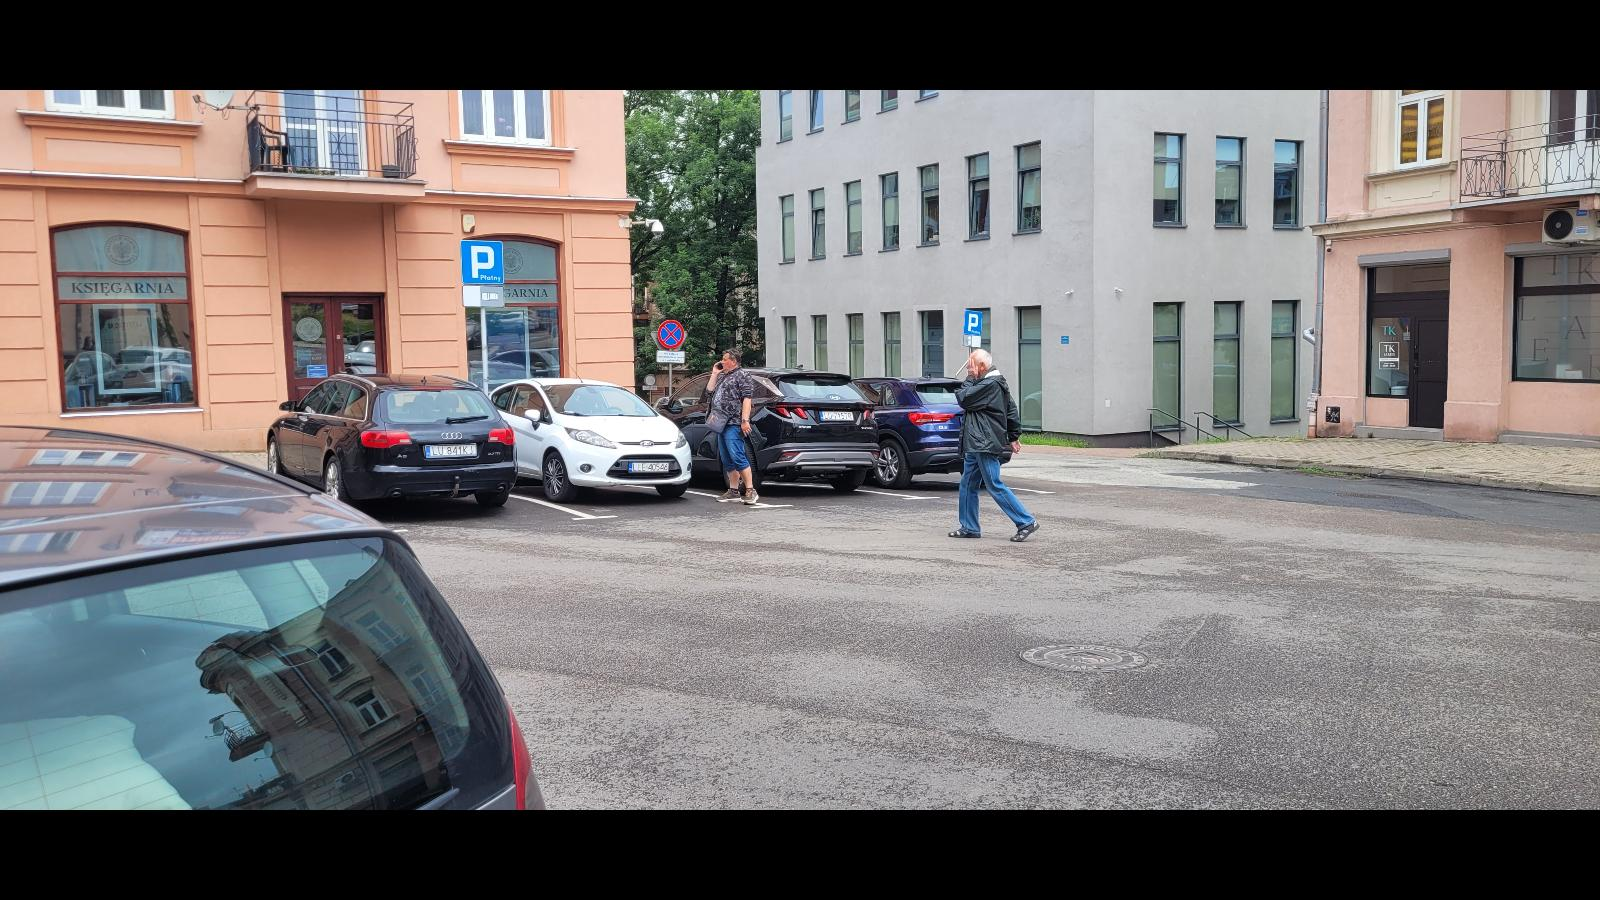plates: (424, 444, 477, 461), (628, 462, 670, 474), (817, 411, 854, 421)
